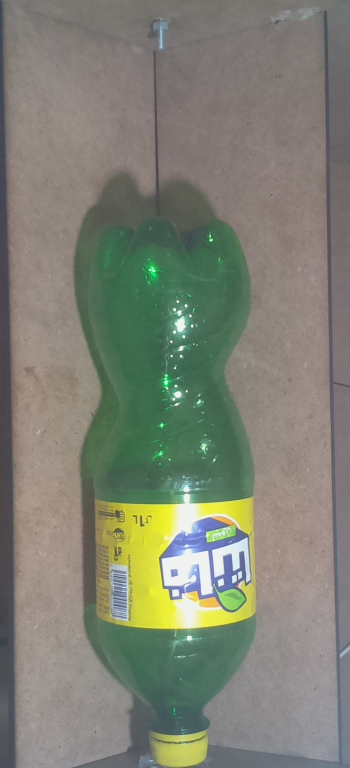Bouteille_1L: (76, 214, 263, 768)
